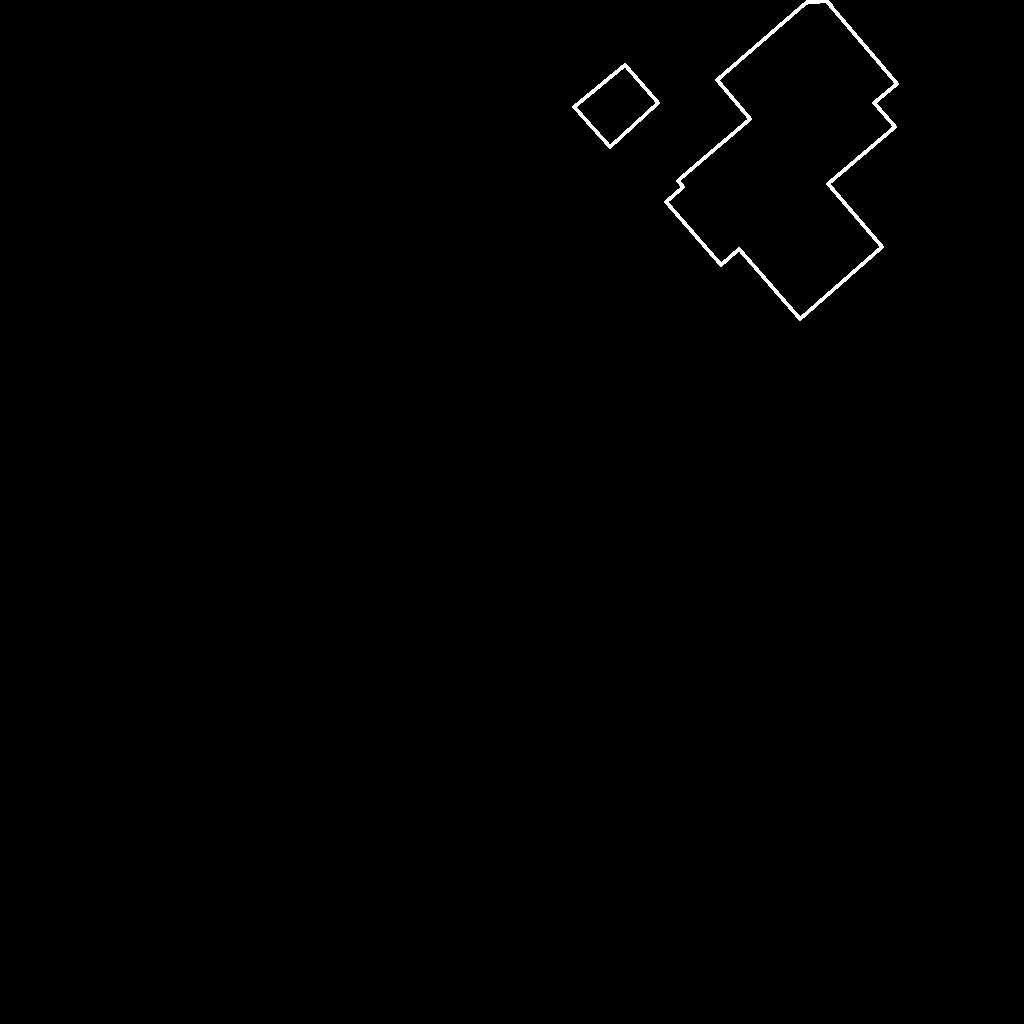building: (666, 0, 898, 320), (574, 65, 659, 148)
